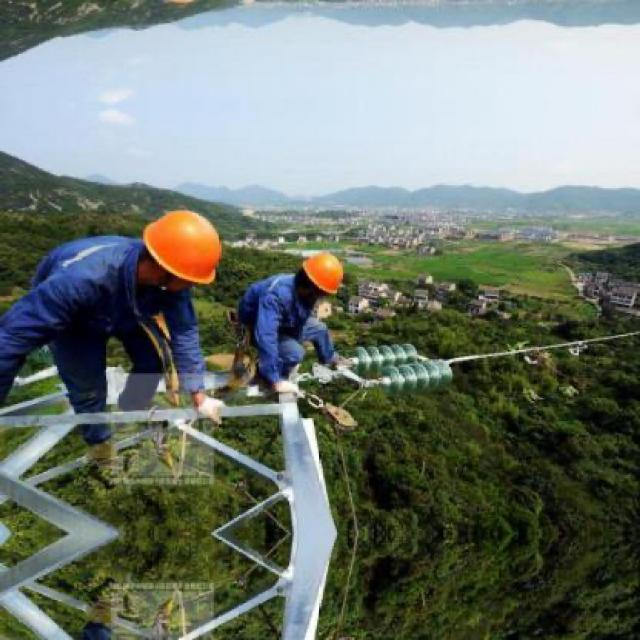helmet: (137, 205, 231, 296), (295, 247, 348, 299)
